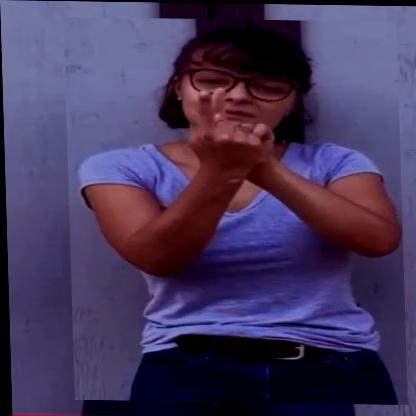NiceToMeetYou: (63, 17, 405, 404)
